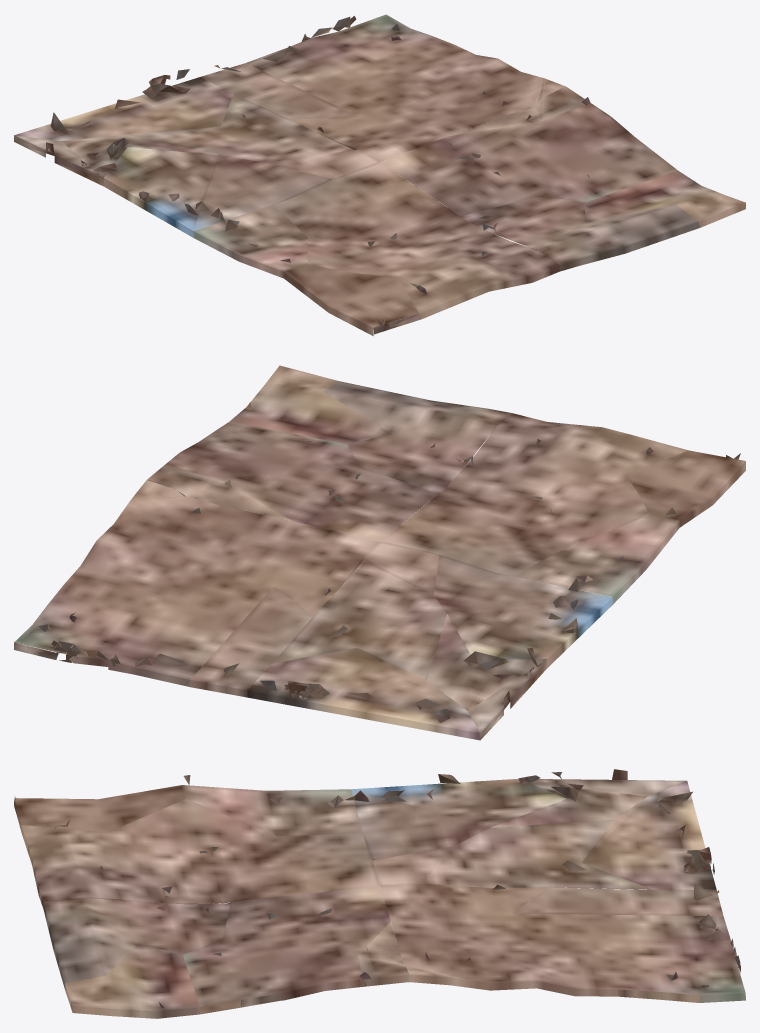
3 renders of one model, top to bottom at view 1: azimuth 30°, elevation 25°; view 2: azimuth 150°, elevation 25°; view 3: azimuth 270°, elevation 25°, orthographic. The views are drawn at different scales.
Parts seen in each view (by area): view 1: Mesh_0; view 2: Mesh_0; view 3: Mesh_0.
Part boxes in pixels (x1=…): Mesh_0: x1=14, y1=14, x2=745, y2=336; Mesh_0: x1=14, y1=365, x2=745, y2=740; Mesh_0: x1=14, y1=769, x2=745, y2=1018.
Bounding box in the file's own units: 532 × 49.08 × 659.
Materials: 1 (1 with a texture image).
